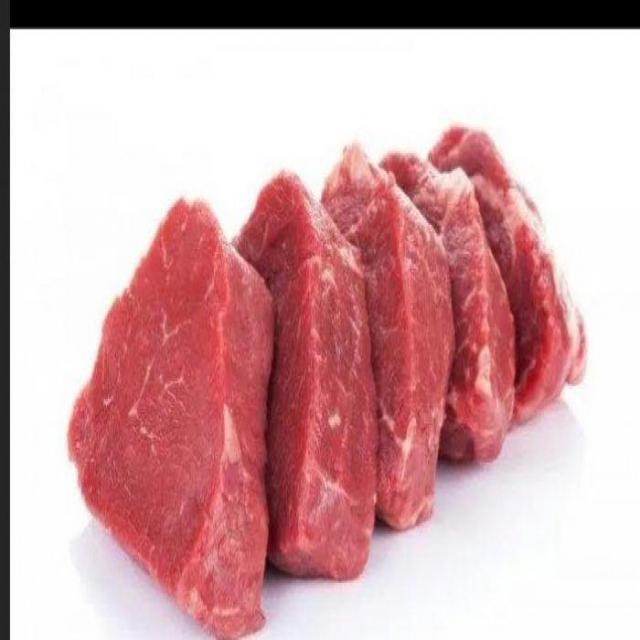beef: (62, 196, 285, 640), (212, 125, 382, 610), (382, 93, 616, 440), (316, 81, 452, 551)
